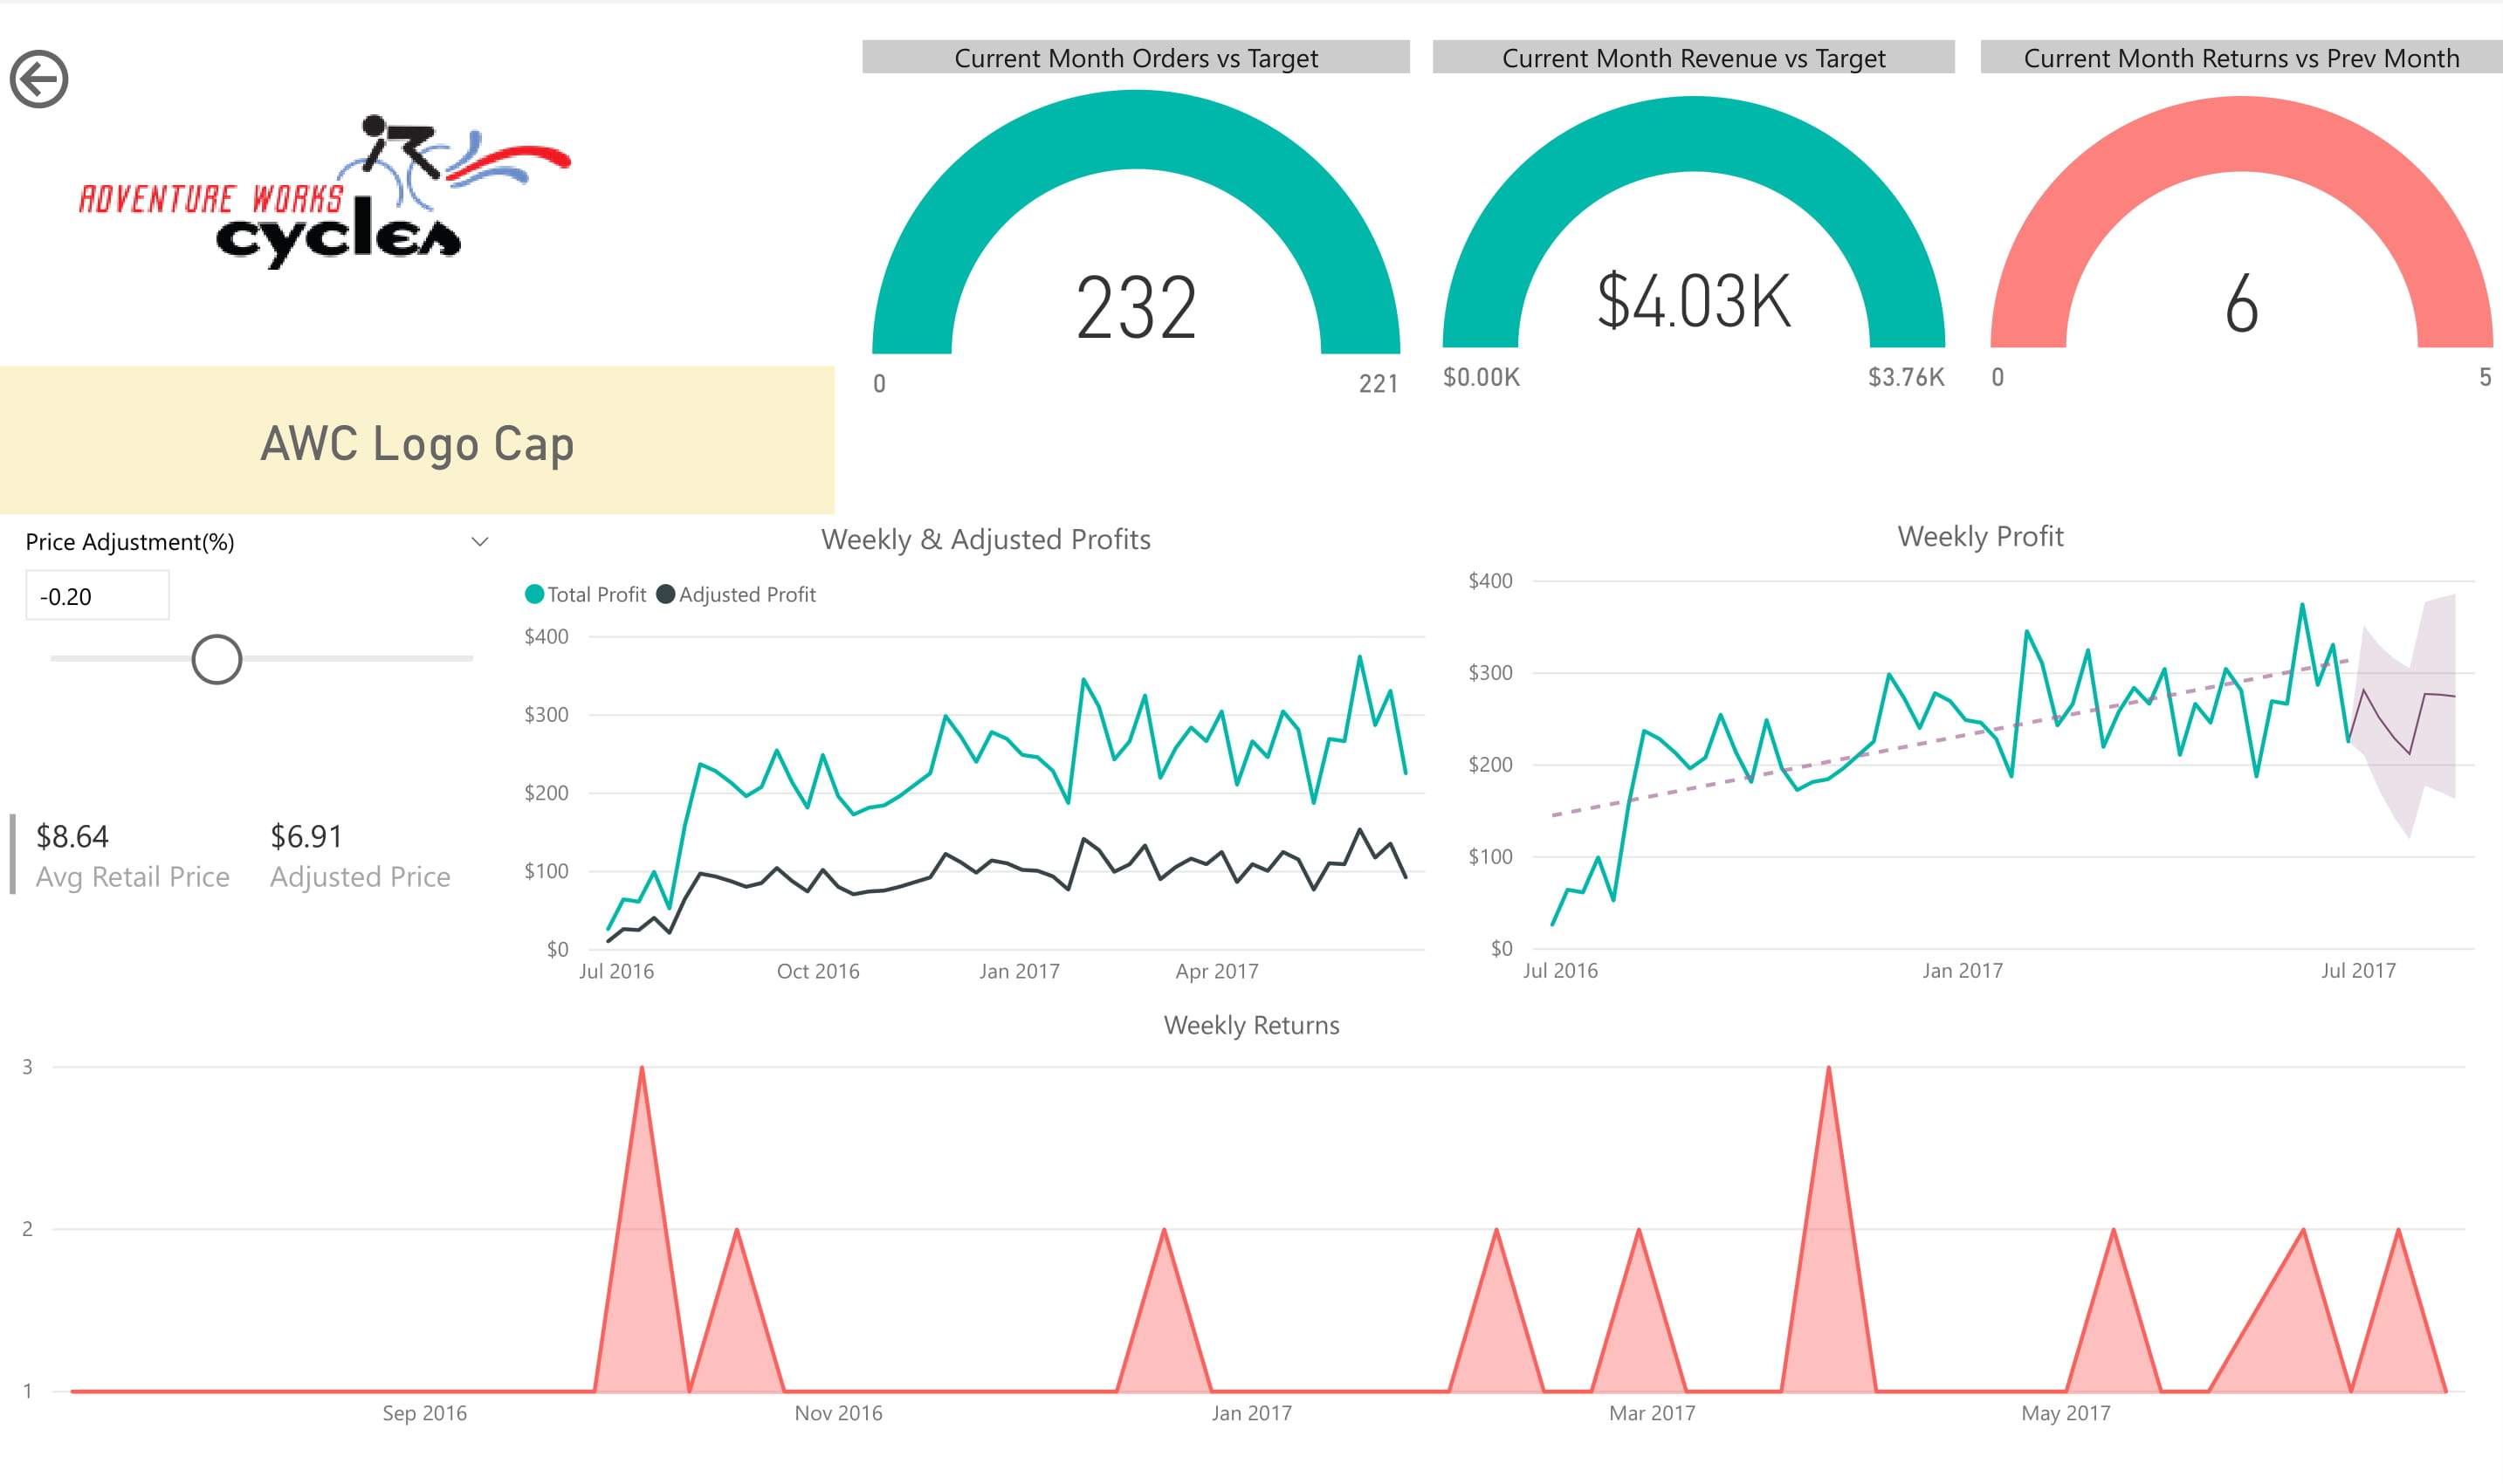

The dashboard page shown, as its layout file describes it:
{"tool":"powerbi","page":{"name":"Product Detail","canvas":[1280,720],"ordinal":1},"visuals":[{"type":"image","box":[35.9,17.2,264.4,120.7],"z":0},{"type":"lineChart","title":"Weekly Profit","fields":{"Y":["AW_Sales.Total Profit"],"Category":["AW_Calendar_Lookup.Start of Week"]},"box":[745.9,242.9,534.6,251.5],"z":1000},{"type":"areaChart","title":"Weekly Returns","fields":{"Category":["AW_Calendar_Lookup.Start of Week"],"Y":["AW_Returns.Total Returns"]},"box":[0,494.4,1280.5,225.6],"z":2000},{"type":"gauge","title":"Current Month Orders vs Target","fields":{"Y":["AW_Sales.Total Orders"],"MaxValue":["AW_Sales.Order Target"]},"box":[441.2,0,280.2,194],"z":3000},{"type":"gauge","title":"Current Month Revenue vs Target","fields":{"Y":["AW_Sales.Total Revenue"],"MaxValue":["AW_Sales.Revenue Target"]},"box":[732.9,0,267.3,194],"z":4000},{"type":"gauge","title":"Current Month Returns vs Prev Month","fields":{"Y":["AW_Returns.Total Returns"],"MaxValue":["AW_Returns.Prev Month Returns"]},"box":[1013.2,0,267.3,194],"z":5000},{"type":"card","fields":{"Values":["Min(AW_Product_Lookup.ProductName)"]},"box":[0,166.7,426.8,76.2],"z":6000},{"type":"actionButton","box":[0,0,100,40],"z":7000},{"type":"slicer","fields":{"Values":["Price Adjustment(%).Price Adjustment(%)"]},"box":[0,242.9,263,148],"z":8000},{"type":"multiRowCard","fields":{"Values":["AW_Product_Lookup.Avg Retail Price","AW_Product_Lookup.Adjusted Price"]},"box":[0,390.9,263,103.5],"z":9000},{"type":"lineChart","title":"Weekly & Adjusted Profits","fields":{"Y":["AW_Sales.Total Profit","AW_Sales.Adjusted Profit"],"Category":["AW_Calendar_Lookup.Start of Week"]},"box":[263,244.3,482.9,250.1],"z":10000}]}

Visuals, with their boxes on the page's 1280x720 design canvas (x1, y1, x2, y2). These are canvas units, not pixel positions in the 2503x1484 screenshot, which may show the page scaled, cropped or inside an application window:
image: bbox(36, 17, 300, 138)
"Weekly Profit" lineChart: bbox(746, 243, 1280, 494)
"Weekly Returns" areaChart: bbox(0, 494, 1280, 720)
"Current Month Orders vs Target" gauge: bbox(441, 0, 721, 194)
"Current Month Revenue vs Target" gauge: bbox(733, 0, 1000, 194)
"Current Month Returns vs Prev Month" gauge: bbox(1013, 0, 1280, 194)
card - Min(AW_Product_Lookup.ProductName): bbox(0, 167, 427, 243)
actionButton: bbox(0, 0, 100, 40)
slicer - Price Adjustment(%).Price Adjustment(%): bbox(0, 243, 263, 391)
multiRowCard - AW_Product_Lookup.Avg Retail Price x AW_Product_Lookup.Adjusted Price: bbox(0, 391, 263, 494)
"Weekly & Adjusted Profits" lineChart: bbox(263, 244, 746, 494)
